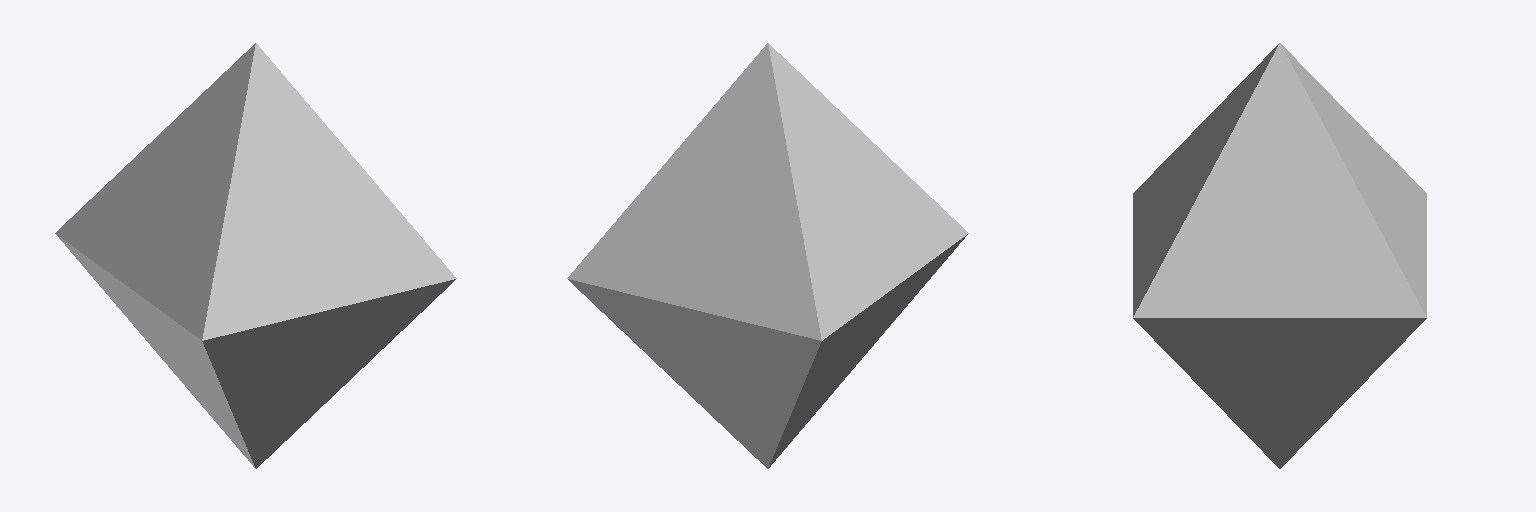
The model's file is diamond3.obj.
The picture shows the model from 3 angles: view 1: azimuth 30°, elevation 25°; view 2: azimuth 150°, elevation 25°; view 3: azimuth 270°, elevation 25°; orthographic projection.
Parts seen in each view (by area): view 1: Cube.003_Cube.004; view 2: Cube.003_Cube.004; view 3: Cube.003_Cube.004.
Part boxes in pixels (x1,y1,x2,y2): Cube.003_Cube.004: (55,43,456,468); Cube.003_Cube.004: (567,43,968,468); Cube.003_Cube.004: (1133,43,1426,468).
Bounding box in the file's own units: 7.12 × 11.4 × 7.12.